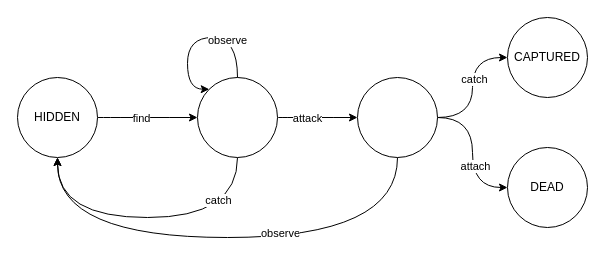
This 605x257 diagram has some shape labels left out. Here are the shapes that lost their labels. From the top down, the box of each, then its label:
(196, 76, 278, 158): VISIBLE
(356, 76, 438, 158): INJURED
